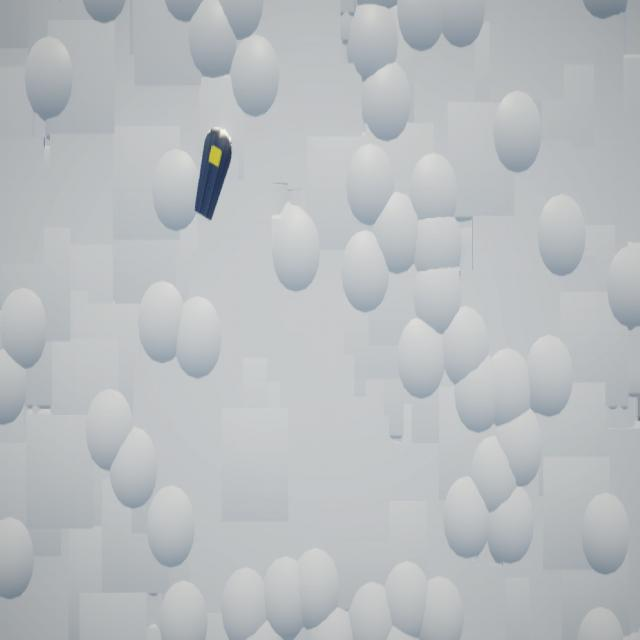handle_folk: (195, 129, 233, 222)
